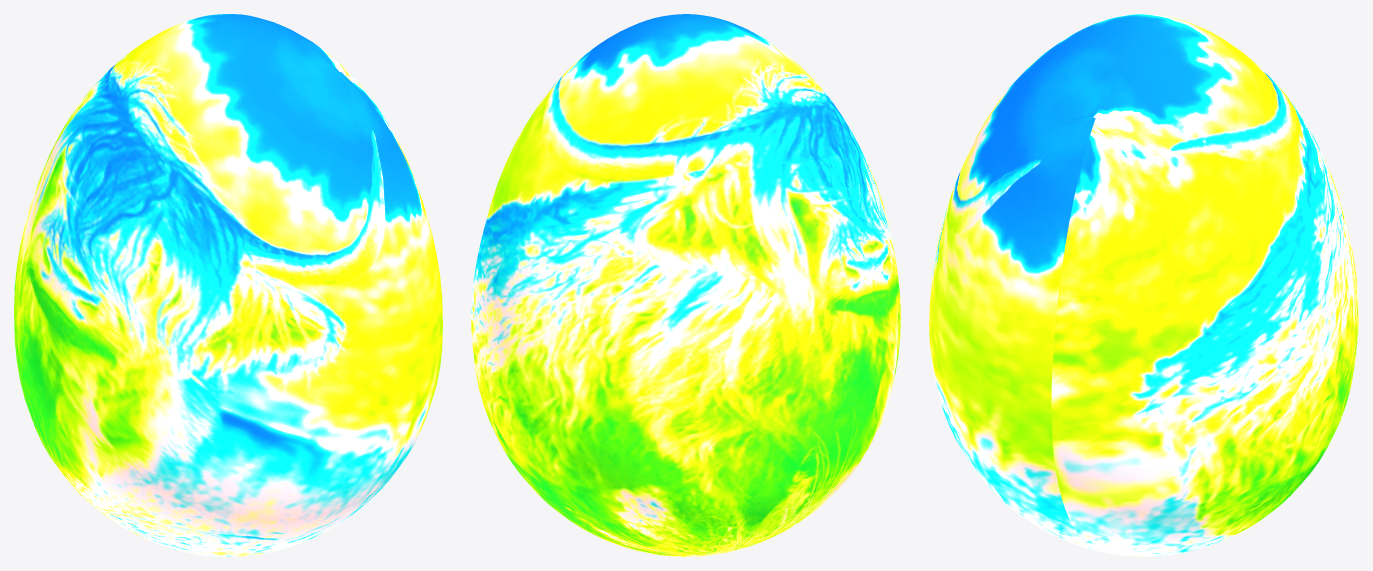
Rendered from Every.glb.
3 views of the same model, side by side, from view 1: azimuth 30°, elevation 25°; view 2: azimuth 150°, elevation 25°; view 3: azimuth 270°, elevation 25° (orthographic).
Parts seen in each view (by area): view 1: egg; view 2: egg; view 3: egg.
Part boxes in pixels (<box>): egg: <box>14,14,442,556</box>; egg: <box>471,14,900,556</box>; egg: <box>929,14,1358,556</box>.
Size of the model in its own units: 3.05 by 4.05 by 3.05.
1 material, 1 textured.
